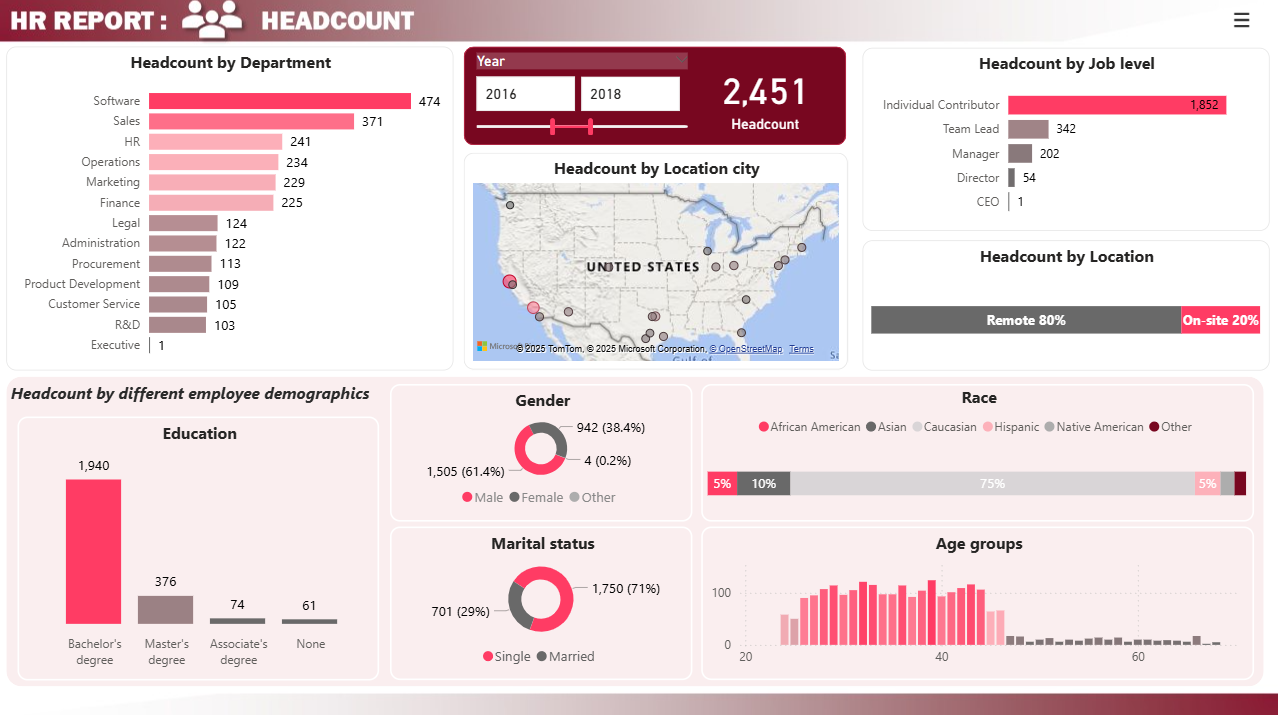

What the dashboard file says about the page in this screenshot:
{"tool":"powerbi","page":{"name":"Headcount","canvas":[1280,720],"ordinal":1},"visuals":[{"type":"shape","box":[998.3,55,281.7,608.3],"z":0,"group":"g1"},{"type":"shape","box":[463.8,47.5,382.5,98.8],"z":0},{"type":"shape","box":[6.7,377.5,1257.5,310],"z":1000},{"type":"slicer","fields":{"Values":["Demographic_table.Age (groups)"]},"box":[1018.3,98.3,243.8,65.8],"z":2000,"group":"g1"},{"type":"card","fields":{"Values":["_measure.Headcount"]},"box":[701.2,55,128.8,85],"z":2000},{"type":"slicer","fields":{"Values":["_Dates (Big).Year"]},"box":[464.3,48.6,237.1,97.1],"z":3000},{"type":"slicer","fields":{"Values":["Department_table.Department"]},"box":[1018.3,178.3,243.8,65.8],"z":3000,"group":"g1"},{"type":"clusteredBarChart","fields":{"Y":["_measure.Headcount"],"Category":["Department_table.Department"]},"box":[5.7,47.1,447.1,324.3],"z":4000},{"type":"slicer","fields":{"Values":["Department_table.Sub-department"]},"box":[1018.3,258.2,243.8,65.8],"z":4000,"group":"g1"},{"type":"clusteredBarChart","fields":{"Y":["_measure.Headcount"],"Category":["Job level_table.Job level"]},"box":[862.9,48.6,407.1,182.9],"z":5000},{"type":"slicer","fields":{"Values":["Education_table.Education"]},"box":[1018.3,338.1,243.8,65.8],"z":5000,"group":"g1"},{"type":"hundredPercentStackedBarChart","fields":{"Y":["_measure.Headcount"],"Series":["Location_table.Location"]},"box":[862.9,241.4,407.1,130],"z":6000},{"type":"slicer","fields":{"Values":["Job level_table.Job level"]},"box":[1018.3,418,243.8,65.8],"z":6000,"group":"g1"},{"type":"map","fields":{"Category":["Location_table.Location city"],"Size":["_measure.Headcount"]},"box":[464.3,154.3,384.3,217.1],"z":7000},{"type":"slicer","fields":{"Values":["Location_table.Location"]},"box":[1018.3,498,243.8,65.8],"z":7000,"group":"g1"},{"type":"slicer","fields":{"Values":["Location_table.Location city"]},"box":[1018.3,577.9,243.8,65.8],"z":8000,"group":"g1"},{"type":"columnChart","title":"Age groups","fields":{"Y":["_measure.Headcount"],"Category":["Demographic_table.Age"]},"box":[701.2,527.5,552.5,153.8],"z":8000},{"type":"donutChart","title":"Gender","fields":{"Category":["Demographic_table.Gender"],"Y":["_measure.Headcount"]},"box":[390,385,302.5,137.5],"z":9000},{"type":"hundredPercentStackedBarChart","title":"Race","fields":{"Y":["_measure.Headcount"],"Series":["Demographic_table.Race"]},"box":[701.2,385,552.5,137.5],"z":10000},{"type":"columnChart","title":"Education","fields":{"Category":["Education_table.Education"],"Y":["_measure.Headcount"]},"box":[17.5,417.5,361.2,263.8],"z":11000},{"type":"actionButton","box":[1204,0,76,39.8],"z":11500},{"type":"donutChart","title":"Marital status","fields":{"Category":["Marital status_table.Marital status"],"Y":["_measure.Headcount"]},"box":[390,527.5,302.5,153.8],"z":12000},{"type":"group","id":"g1","title":"Slicer Panel","box":[998.3,55,281.7,608.3],"z":14000}]}

Visuals, with their boxes in screenshot pixels (x1, y1, x2, y2), scaled from the page's 1280x720 canvas onto the 1278x715 screenshot:
shape: 997:55:1277:659
shape: 463:47:845:145
shape: 7:375:1262:683
slicer - Demographic_table.Age (groups): 1017:98:1260:163
card - _measure.Headcount: 700:55:829:139
slicer - _Dates (Big).Year: 464:48:700:145
slicer - Department_table.Department: 1017:177:1260:242
clusteredBarChart - _measure.Headcount x Department_table.Department: 6:47:452:369
slicer - Department_table.Sub-department: 1017:256:1260:322
clusteredBarChart - _measure.Headcount x Job level_table.Job level: 862:48:1268:230
slicer - Education_table.Education: 1017:336:1260:401
hundredPercentStackedBarChart - _measure.Headcount x Location_table.Location: 862:240:1268:369
slicer - Job level_table.Job level: 1017:415:1260:480
map - Location_table.Location city x _measure.Headcount: 464:153:847:369
slicer - Location_table.Location: 1017:495:1260:560
slicer - Location_table.Location city: 1017:574:1260:639
"Age groups" columnChart: 700:524:1252:677
"Gender" donutChart: 389:382:691:519
"Race" hundredPercentStackedBarChart: 700:382:1252:519
"Education" columnChart: 17:415:378:677
actionButton: 1202:0:1277:40
"Marital status" donutChart: 389:524:691:677
"Slicer Panel" group: 997:55:1277:659
